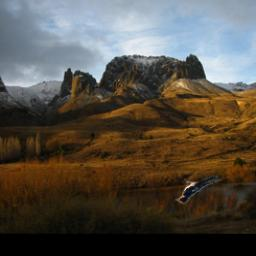Swallow: (176, 176, 223, 205)
